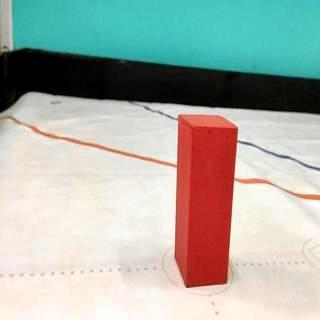redbox: (175, 113, 239, 290)
